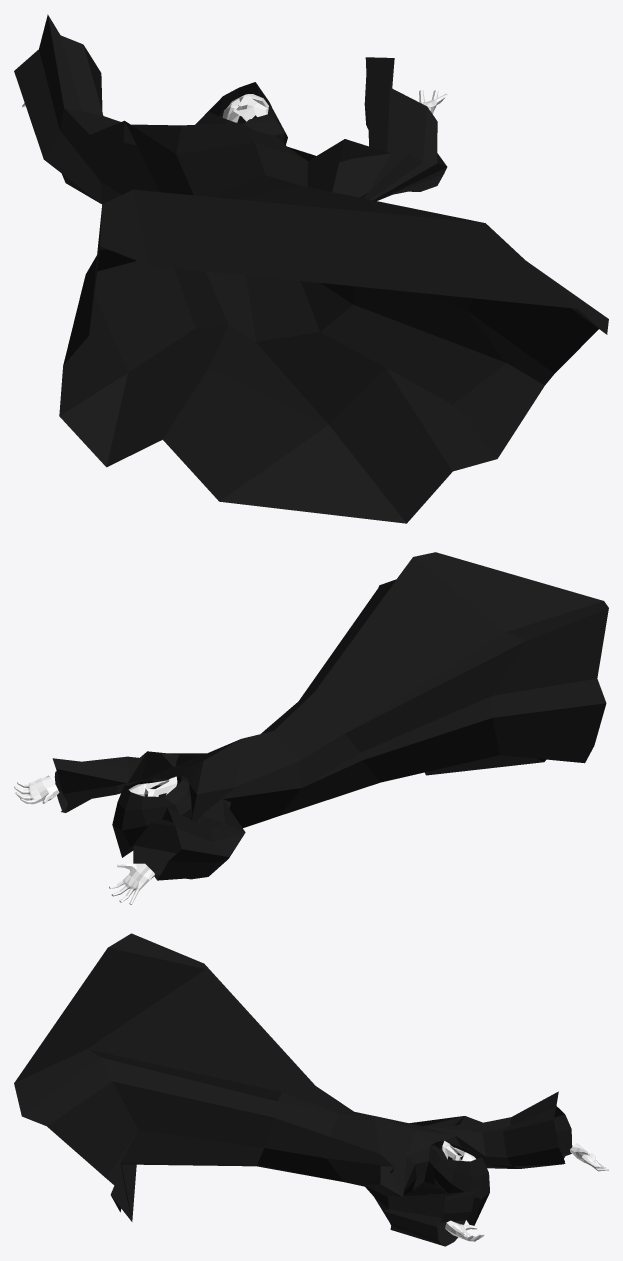
File: ReaperDead(100).obj
3 renders of one model, top to bottom at view 1: azimuth 30°, elevation 25°; view 2: azimuth 150°, elevation 25°; view 3: azimuth 270°, elevation 25°, orthographic. The views are drawn at different scales.
Parts seen in each view (by area): view 1: Plane003; view 2: Plane003; view 3: Plane003.
Part boxes in pixels (x1,y1,x2,y2): Plane003: [14, 14, 608, 523]; Plane003: [14, 552, 608, 904]; Plane003: [14, 933, 608, 1246].
Size of the model in its own units: 213 by 107 by 293.
